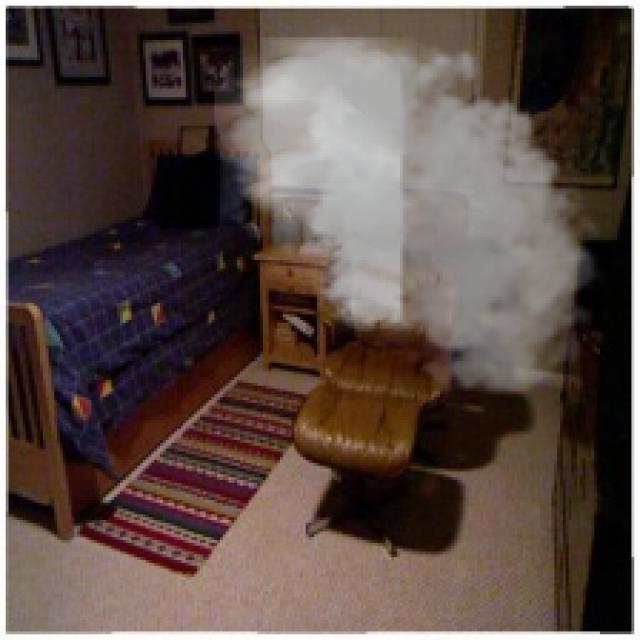Smoke: (214, 23, 612, 403)
